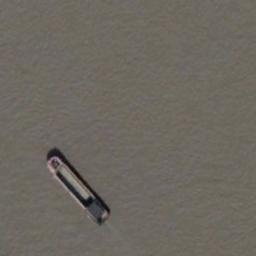boat: (44, 152, 111, 226)
